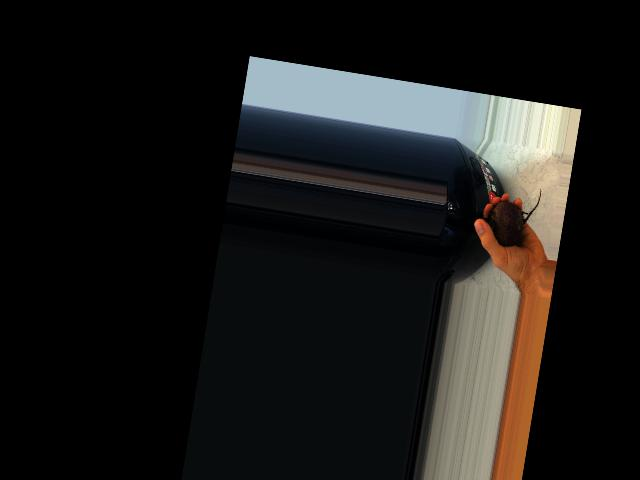beet: (479, 180, 542, 250)
